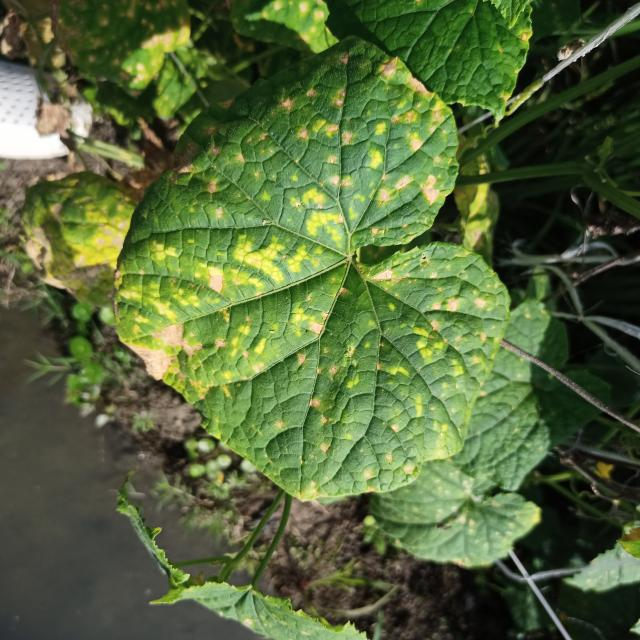disease_cucumber: (123, 51, 489, 465)
